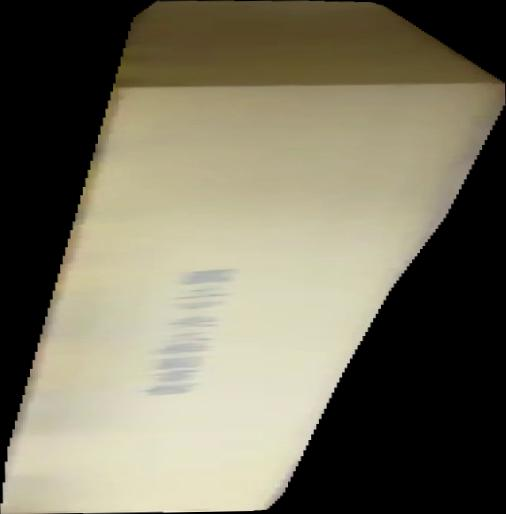backward: (1, 1, 506, 514)
